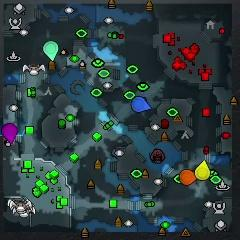p1: (131, 96, 150, 112)
p2: (44, 41, 59, 61)
p3: (2, 123, 17, 145)
p4: (195, 161, 210, 179)
p5: (180, 169, 196, 184)
